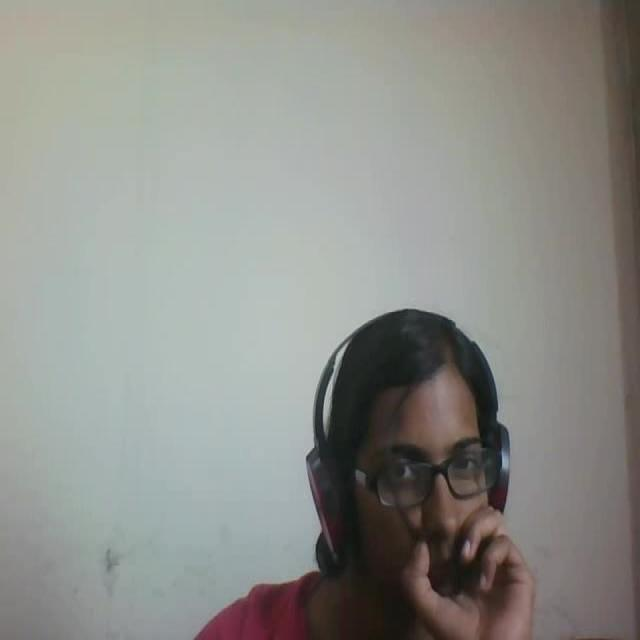Bored: (285, 274, 541, 640)
